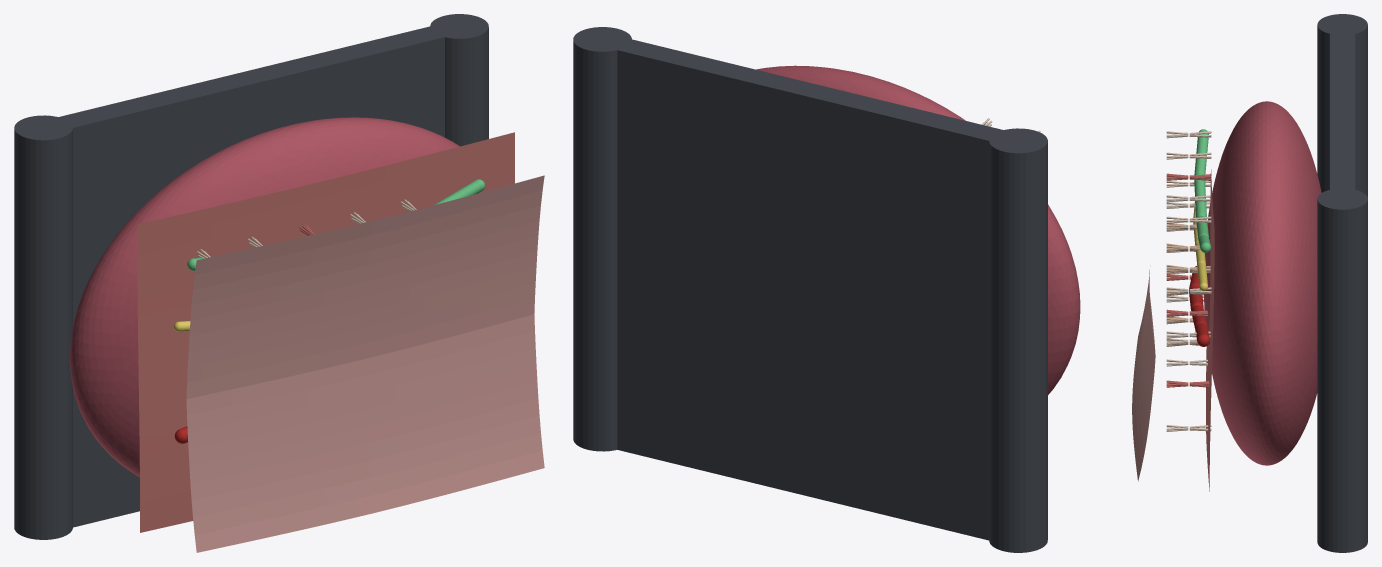
Rendered from dranmar_safeplane_tissue_traction.glb.
3 renders of one model, left to right at view 1: azimuth 30°, elevation 25°; view 2: azimuth 150°, elevation 25°; view 3: azimuth 270°, elevation 25°, orthographic. The views are drawn at different scales.
Parts seen in each view (by area): view 1: SuperficialFlap, Fixture, TargetBed, ProtectedOrgan; view 2: Fixture, ProtectedOrgan; view 3: ProtectedOrgan, Fixture, SuperficialFlap, TargetBed, DuctLeft, VesselRight, NerveRight, DuctRight, VesselLeft.
Boxes of the visible parts, <box> form: SuperficialFlap: <box>186,175,544,552</box>; Fixture: <box>14,14,488,539</box>; TargetBed: <box>137,132,514,532</box>; ProtectedOrgan: <box>70,117,459,477</box>; Fixture: <box>573,27,1047,552</box>; ProtectedOrgan: <box>756,65,1080,394</box>; ProtectedOrgan: <box>1204,101,1321,465</box>; Fixture: <box>1317,14,1367,552</box>; SuperficialFlap: <box>1132,265,1155,481</box>; TargetBed: <box>1206,169,1214,491</box>; DuctLeft: <box>1194,129,1208,217</box>; VesselRight: <box>1191,305,1209,346</box>; NerveRight: <box>1195,242,1207,291</box>; DuctRight: <box>1196,216,1210,252</box>; VesselLeft: <box>1189,266,1203,310</box>.
Size of the model in its own units: 0.22 by 0.18 by 0.1121.
